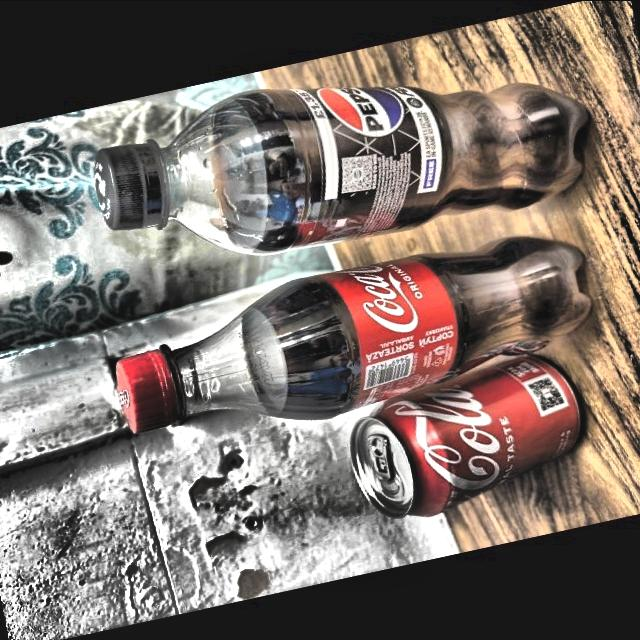coke-bottle: (116, 240, 588, 432)
coke-can: (363, 351, 581, 517)
pepsi-bottle: (100, 78, 596, 244)
